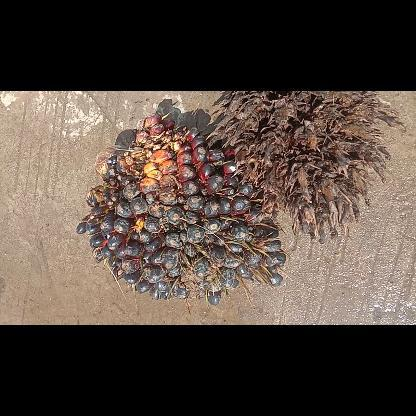Janjang kosong: (206, 91, 402, 243)
TBS mentah: (77, 111, 291, 309)
